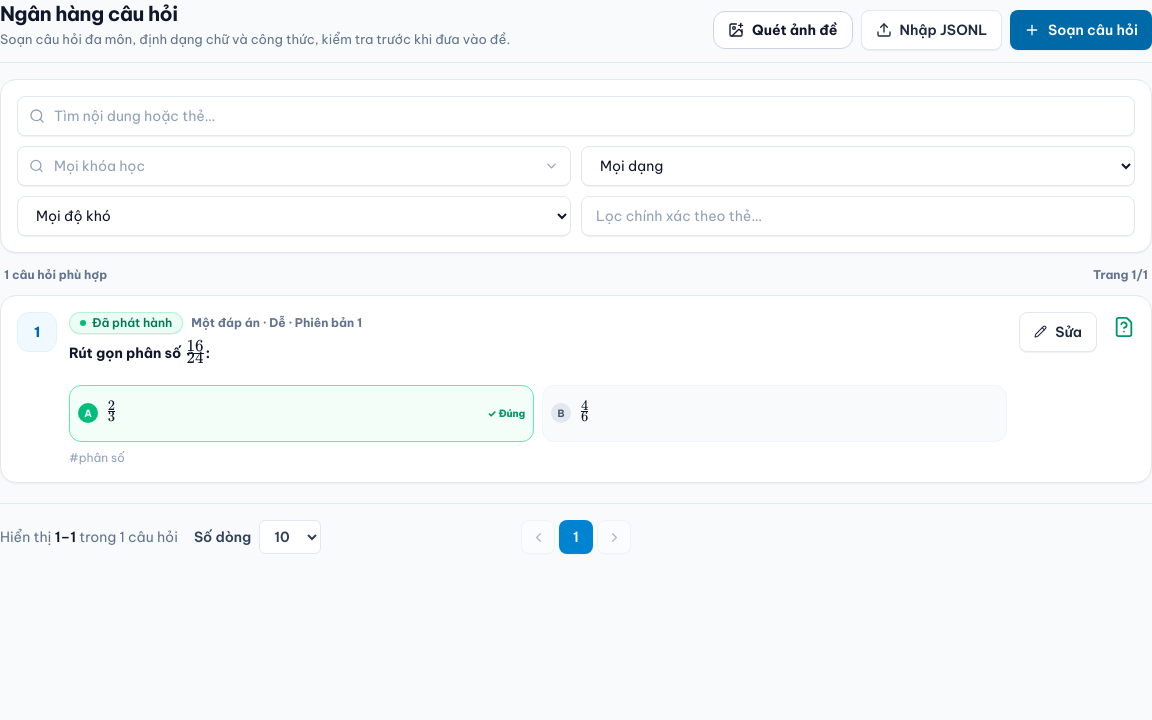
it: QuestionsPage request lifecycle › renders LaTeX in list view and toggles rendered preview via Xem giao diện when editing
The image size is (1152, 720).
Check: the text "$\\frac{16}{24}$" is not shown
Step 1. Click the button with aria-label "Sửa thành phiên bản mới" → click(1058, 332), box [1019,312,1097,352]
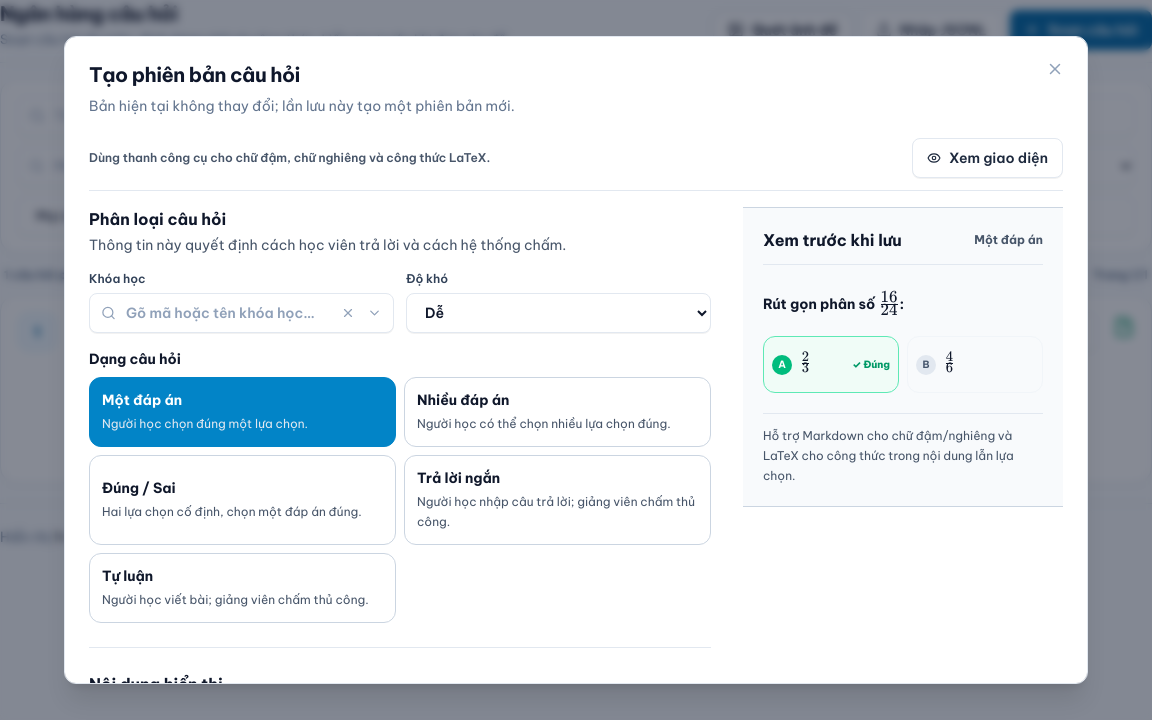
Step 2. Click the button "Xem giao diện" → click(988, 158), box [912,138,1063,178]
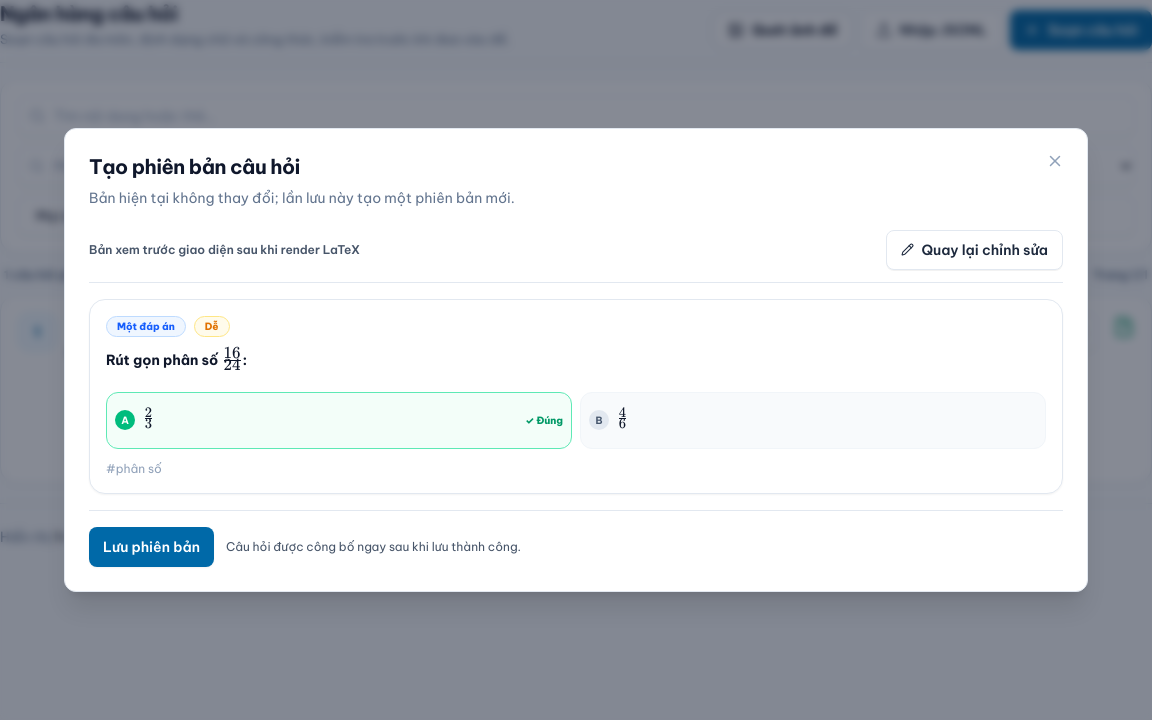
Check: the field labelled "Nội dung câu hỏi" is not shown
Check: the text "Bản xem trước giao diện sau khi render LaTeX" is shown, box [89,242,360,258]
Step 3. Click the button "Quay lại chỉnh sửa" → click(974, 250), box [886,230,1063,270]
(page scrolled)
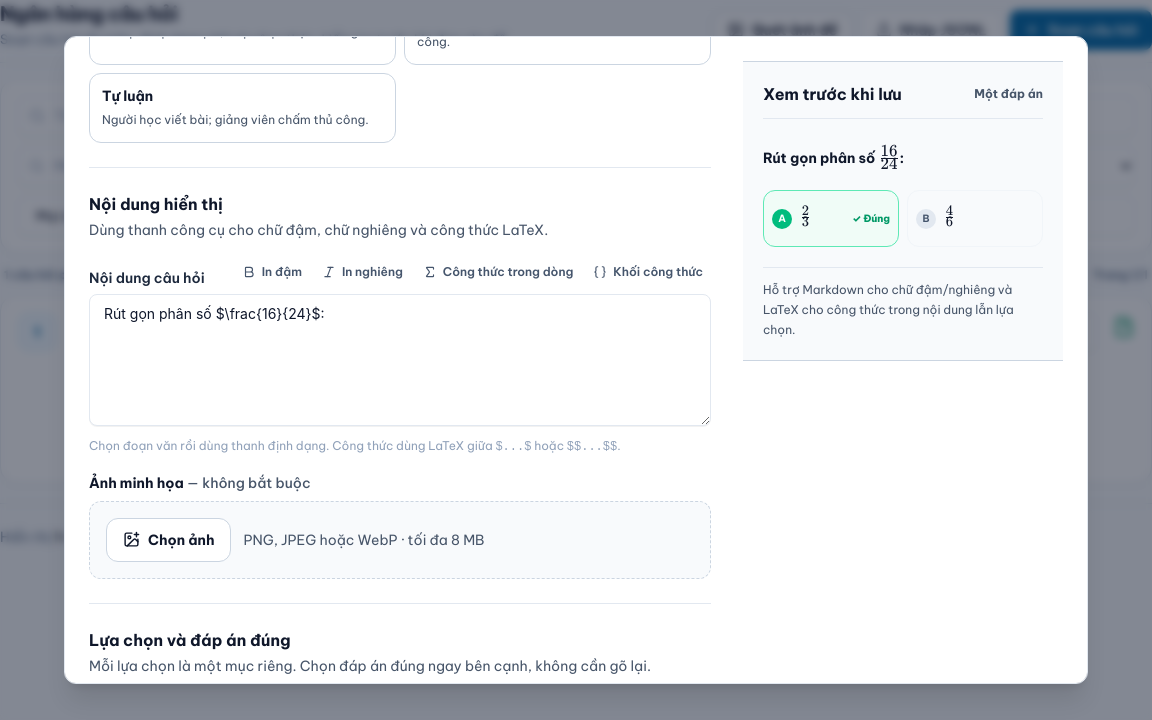
Check: the text box labelled "Nội dung câu hỏi" holds "Rút gọn phân số $\\frac{16}{24}$:", box [89,294,711,426]
